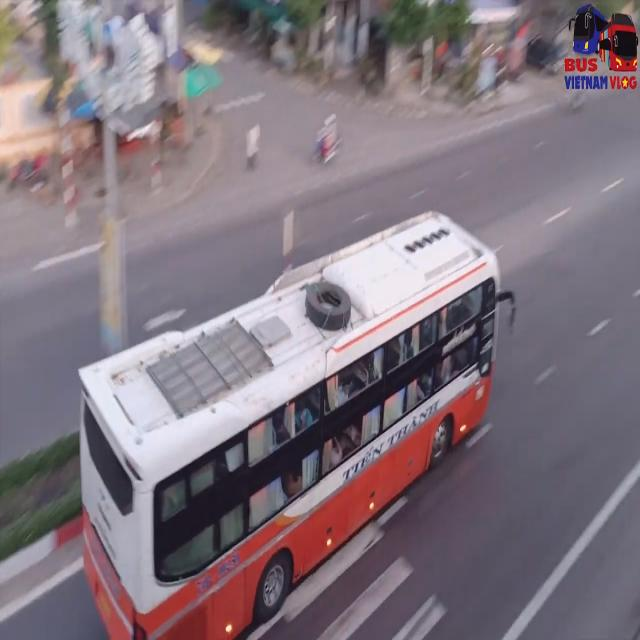bus: (68, 198, 500, 638)
